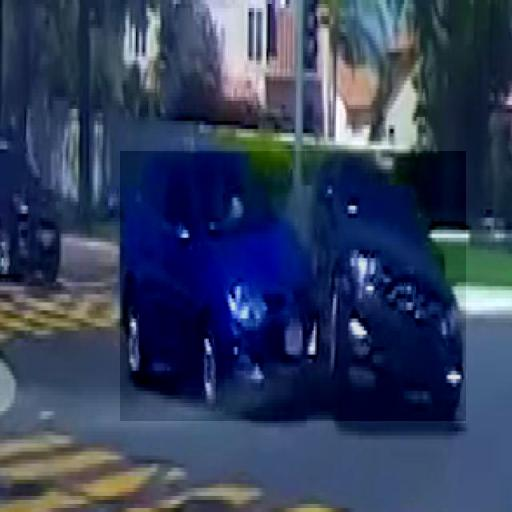小汽车撞小汽车: (120, 151, 466, 421)
